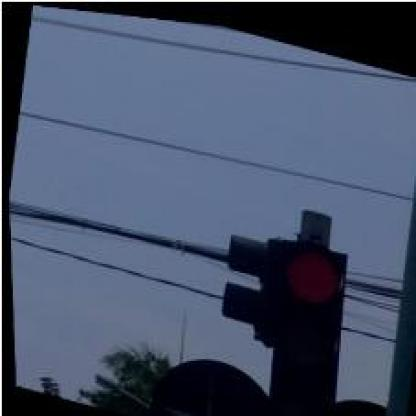red: (248, 227, 358, 414)
